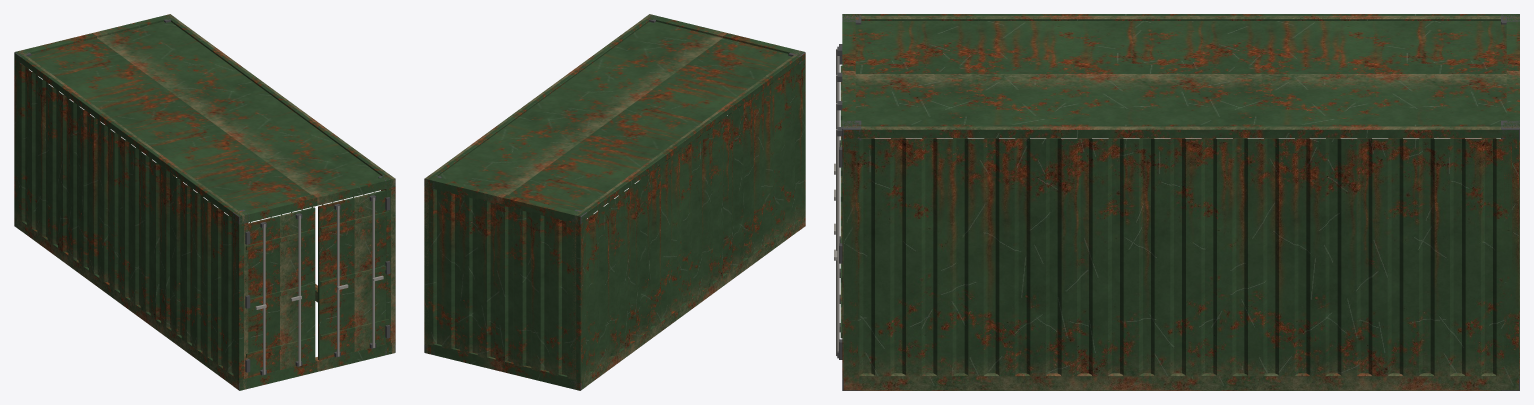
Rendered from container_green.glb.
3 renders of one model, left to right at view 1: azimuth 30°, elevation 25°; view 2: azimuth 150°, elevation 25°; view 3: azimuth 270°, elevation 25°, orthographic. The views are drawn at different scales.
Parts seen in each view (by area): view 1: model; view 2: model; view 3: model.
Boxes of the visible parts, x1=… form: model: x1=14, y1=14, x2=395, y2=390; model: x1=424, y1=14, x2=805, y2=390; model: x1=834, y1=14, x2=1519, y2=390.
Size of the model in its own units: 2.44 by 2.59 by 6.13.
Materials: 3 (1 with a texture image).
